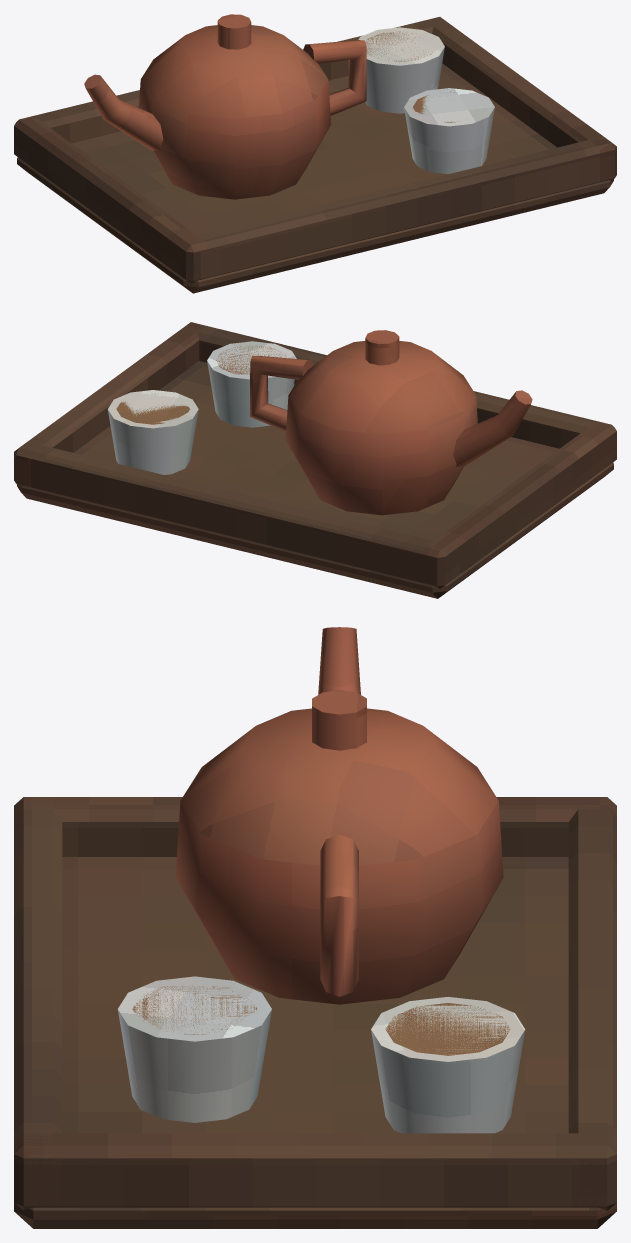
The model's file is tea_set_tray.glb.
3 views of the same model, one above another, from view 1: azimuth 30°, elevation 25°; view 2: azimuth 150°, elevation 25°; view 3: azimuth 270°, elevation 25° (orthographic). The views are drawn at different scales.
Parts seen in each view (by area): view 1: tea_set_tray; view 2: tea_set_tray; view 3: tea_set_tray.
Part boxes in pixels (x1,y1,x2,y2): tea_set_tray: (14,14,616,293); tea_set_tray: (14,322,616,598); tea_set_tray: (14,627,616,1228).
Bounding box in the file's own units: 0.356 × 0.135 × 0.25.
Materials: 4 (4 with a texture image).
